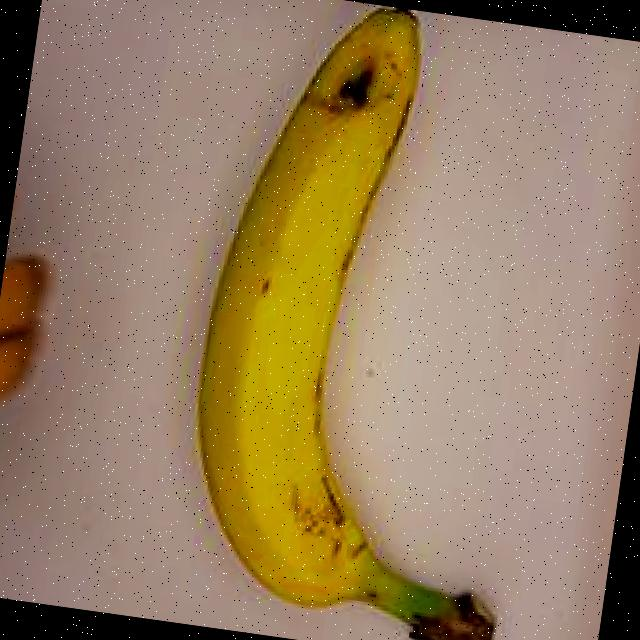Ripe: (113, 0, 623, 640)
